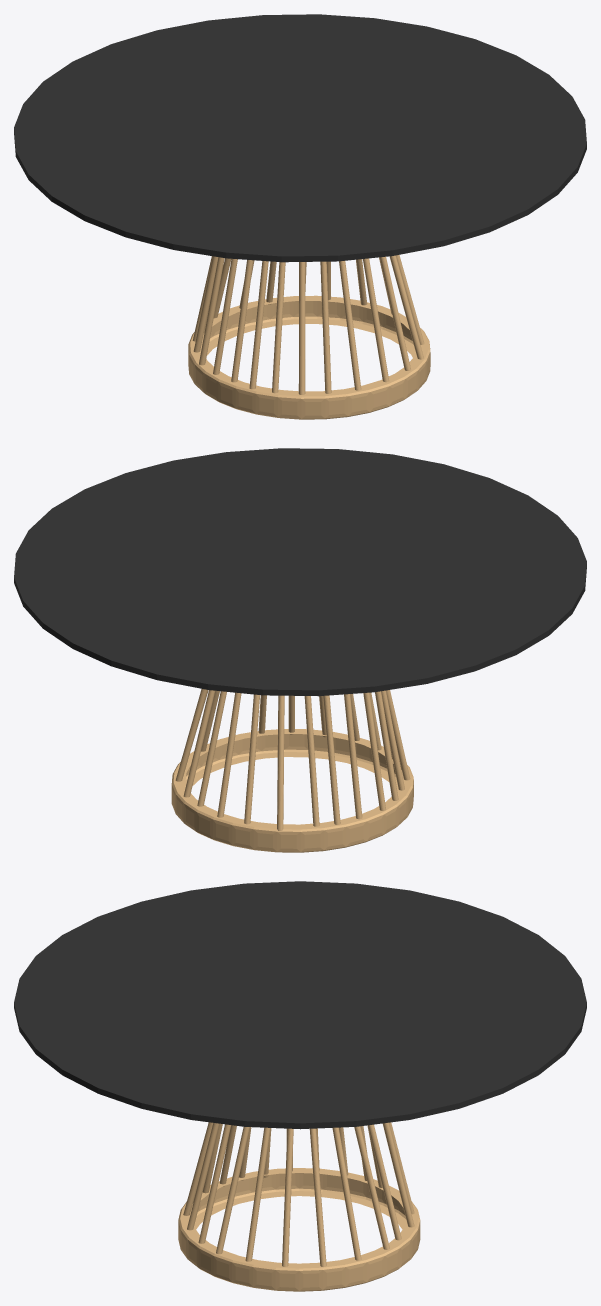
3 views of the same model, one above another, from view 1: azimuth 30°, elevation 25°; view 2: azimuth 150°, elevation 25°; view 3: azimuth 270°, elevation 25° (orthographic).
Parts seen in each view (by area): view 1: Cylinder, Cylinder.003, Cylinder.009, Cylinder.011, Cylinder.008, Cylinder.007, Cylinder.010, Cylinder.012, Cylinder.006, Cylinder.004, Cylinder.013, Cylinder.001 (+2 smaller); view 2: Cylinder, Cylinder.003, Cylinder.025, Cylinder.024, Cylinder.022, Cylinder.023, Cylinder.021, Cylinder.005, Cylinder.001, Cylinder.020, Cylinder.004, Cylinder.019 (+3 smaller); view 3: Cylinder, Cylinder.003, Cylinder.017, Cylinder.016, Cylinder.015, Cylinder.018, Cylinder.014, Cylinder.019, Cylinder.013, Cylinder.020, Cylinder.012, Cylinder.021 (+1 smaller).
Boxes of the visible parts, x1,y1,x2,y2 form: Cylinder: (14, 14, 586, 262); Cylinder.003: (188, 295, 430, 419); Cylinder.009: (298, 262, 305, 394); Cylinder.011: (320, 261, 331, 393); Cylinder.008: (272, 262, 285, 393); Cylinder.007: (249, 261, 268, 389); Cylinder.010: (339, 261, 361, 390); Cylinder.012: (363, 258, 389, 382); Cylinder.006: (231, 260, 253, 382); Cylinder.004: (213, 258, 237, 374); Cylinder.013: (379, 256, 410, 370); Cylinder.001: (199, 257, 224, 365); Cylinder: (14, 448, 586, 696); Cylinder.003: (171, 729, 413, 852); Cylinder.025: (277, 695, 284, 830); Cylinder.024: (304, 696, 319, 826); Cylinder.022: (244, 694, 259, 824); Cylinder.023: (323, 695, 340, 824); Cylinder.021: (217, 692, 241, 817); Cylinder.005: (344, 694, 362, 819); Cylinder.001: (363, 692, 385, 810); Cylinder.020: (197, 691, 226, 806); Cylinder.004: (375, 691, 398, 800); Cylinder.019: (183, 690, 215, 797); Cylinder: (14, 881, 586, 1129); Cylinder.003: (178, 1168, 420, 1291); Cylinder.017: (309, 1128, 326, 1266); Cylinder.016: (282, 1128, 293, 1266); Cylinder.015: (245, 1127, 270, 1261); Cylinder.018: (332, 1127, 361, 1260); Cylinder.014: (216, 1127, 249, 1254); Cylinder.019: (354, 1126, 389, 1249); Cylinder.013: (198, 1124, 231, 1243); Cylinder.020: (367, 1124, 401, 1240); Cylinder.012: (187, 1123, 219, 1230); Cylinder.021: (382, 1122, 414, 1227).
Size of the model in its own units: 0.9 by 0.4073 by 0.9.
